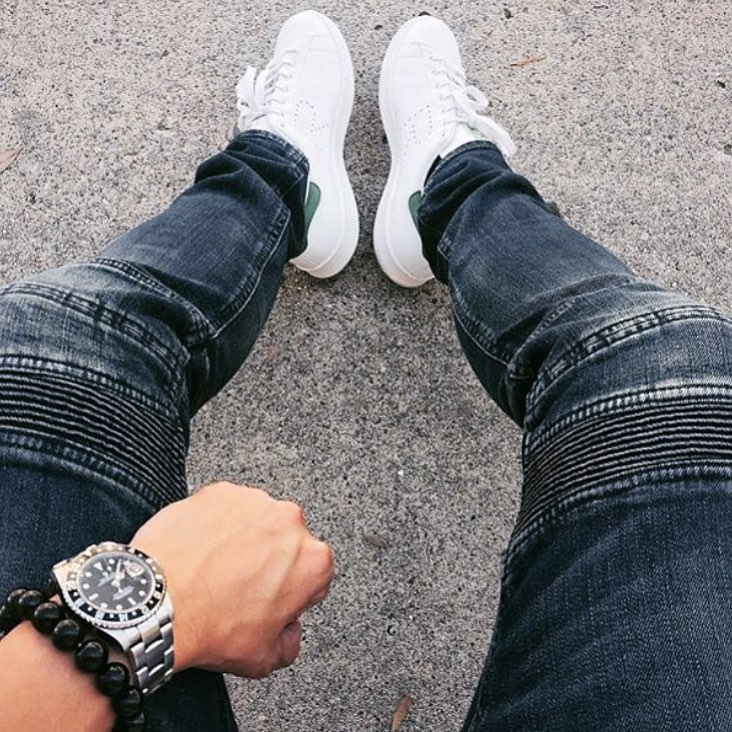sneaker: (363, 1, 525, 297), (218, 1, 372, 296)
